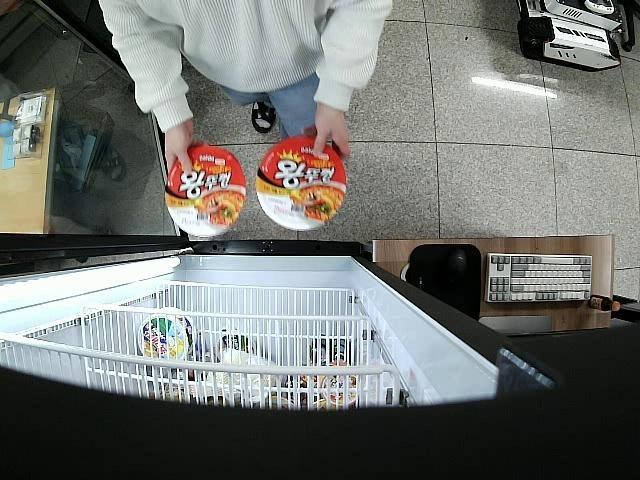10_wangTtukkeong: (257, 136, 346, 230), (165, 144, 248, 235)
